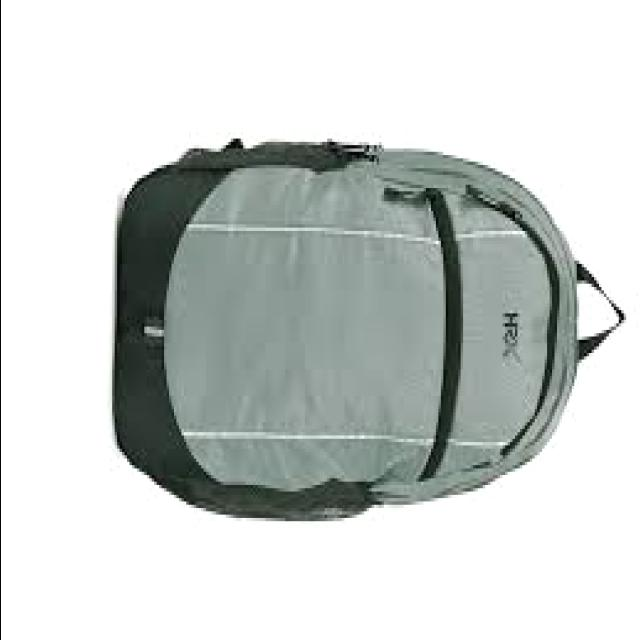backpack: (115, 136, 629, 522)
